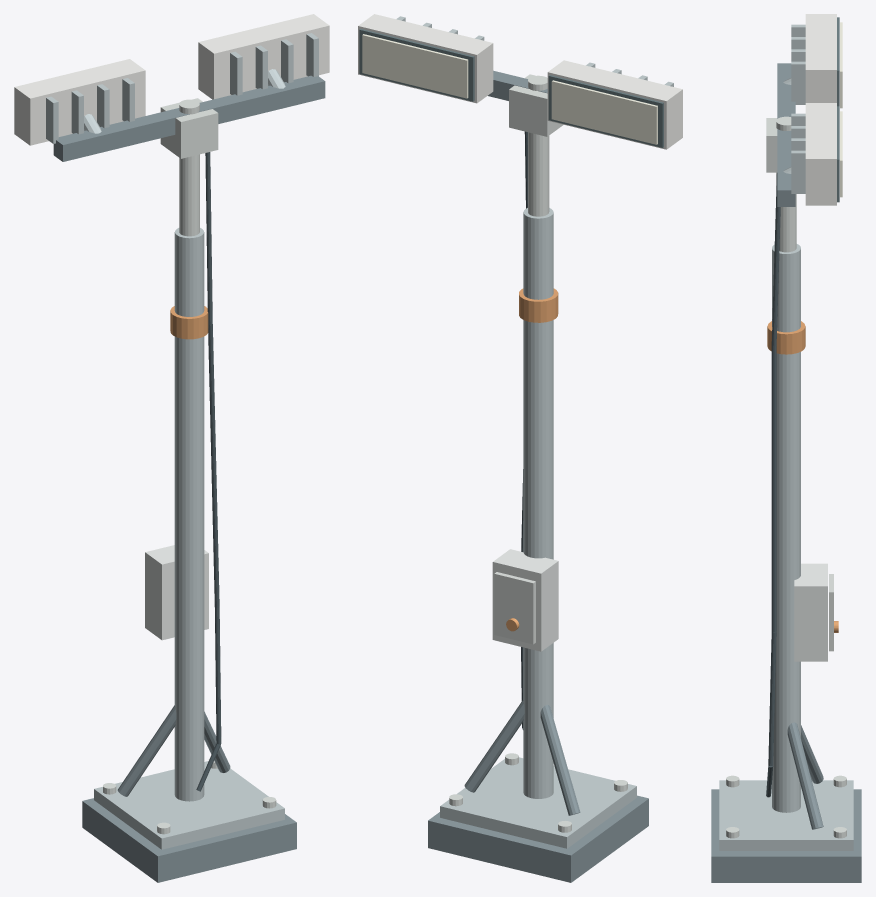
File: high_light_post.glb
The picture shows the model from 3 angles, left to right: view 1: azimuth 30°, elevation 25°; view 2: azimuth 150°, elevation 25°; view 3: azimuth 270°, elevation 25°; orthographic projection. The views are drawn at different scales.
Visible parts, largest first — view 1: main_mast_alloy, light_heads_white_painted, foundation_plate_alloy, ground_base_dark_alloy, head_spreader_dark_alloy, rear_heat_fins_alloy, supply_cable_black_rubber, junction_box_white_ceramic, mast_yoke_satin_steel, upper_mast_satin_steel, base_braces_dark_alloy, locking_collar_orange; view 2: main_mast_alloy, foundation_plate_alloy, led_emitter_light_diffuser, ground_base_dark_alloy, light_heads_white_painted, junction_box_white_ceramic, base_braces_dark_alloy, light_seal_rubber_gasket, junction_cover_warm_panel, upper_mast_satin_steel, mast_yoke_satin_steel, locking_collar_orange (+1 smaller); view 3: main_mast_alloy, foundation_plate_alloy, light_heads_white_painted, ground_base_dark_alloy, supply_cable_black_rubber, junction_box_white_ceramic, rear_heat_fins_alloy, head_spreader_dark_alloy, base_braces_dark_alloy, upper_mast_satin_steel, locking_collar_orange, mast_yoke_satin_steel (+4 smaller).
Part boxes in pixels (<box>): main_mast_alloy: <box>174,228,204,801</box>; light_heads_white_painted: <box>14,14,329,145</box>; foundation_plate_alloy: <box>94,761,284,849</box>; ground_base_dark_alloy: <box>82,798,296,882</box>; head_spreader_dark_alloy: <box>53,75,325,161</box>; rear_heat_fins_alloy: <box>46,33,318,143</box>; supply_cable_black_rubber: <box>196,152,221,791</box>; junction_box_white_ceramic: <box>145,545,208,640</box>; mast_yoke_satin_steel: <box>160,98,218,158</box>; upper_mast_satin_steel: <box>179,99,199,236</box>; base_braces_dark_alloy: <box>117,705,230,796</box>; locking_collar_orange: <box>170,306,208,339</box>; main_mast_alloy: <box>523,208,553,798</box>; foundation_plate_alloy: <box>440,757,636,848</box>; led_emitter_light_diffuser: <box>362,34,657,144</box>; ground_base_dark_alloy: <box>428,795,648,882</box>; light_heads_white_painted: <box>358,14,682,149</box>; junction_box_white_ceramic: <box>492,549,558,651</box>; base_braces_dark_alloy: <box>464,700,580,815</box>; light_seal_rubber_gasket: <box>359,28,663,147</box>; junction_cover_warm_panel: <box>494,572,535,644</box>; upper_mast_satin_steel: <box>528,75,549,216</box>; mast_yoke_satin_steel: <box>509,74,563,136</box>; locking_collar_orange: <box>519,288,558,322</box>; main_mast_alloy: <box>772,244,800,812</box>; foundation_plate_alloy: <box>719,780,853,850</box>; light_heads_white_painted: <box>805,14,836,205</box>; ground_base_dark_alloy: <box>711,789,861,882</box>; supply_cable_black_rubber: <box>766,173,780,797</box>; junction_box_white_ceramic: <box>794,563,827,661</box>; rear_heat_fins_alloy: <box>791,24,805,193</box>; head_spreader_dark_alloy: <box>777,63,795,206</box>; base_braces_dark_alloy: <box>787,722,823,829</box>; upper_mast_satin_steel: <box>776,116,796,252</box>; locking_collar_orange: <box>767,321,805,354</box>; mast_yoke_satin_steel: <box>766,118,777,172</box>.
Bounding box in the file's own units: 1.53 × 3.75 × 0.67.
